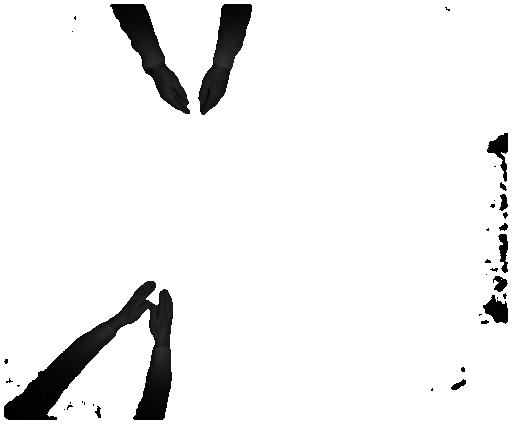hand: (112, 281, 158, 327), (150, 72, 194, 116), (199, 71, 237, 119), (150, 290, 175, 346)
